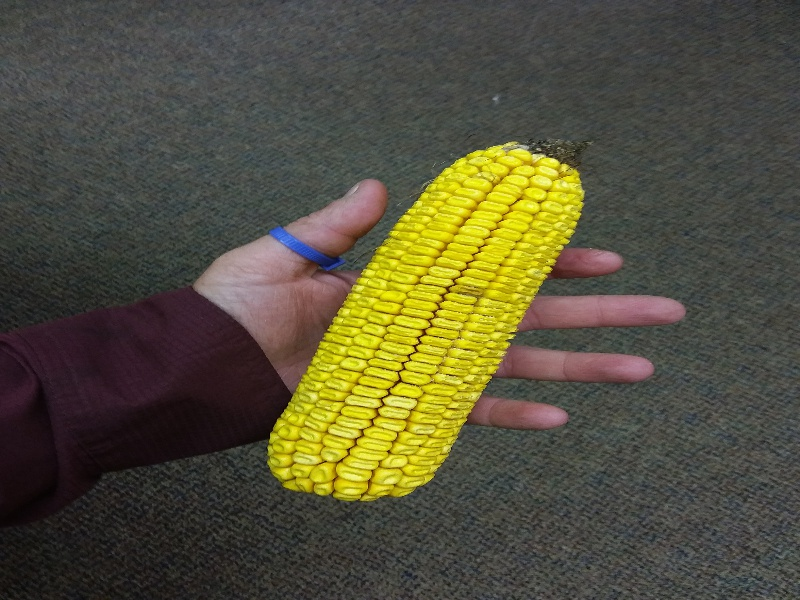band: (267, 226, 343, 275)
ear: (265, 134, 598, 504)
